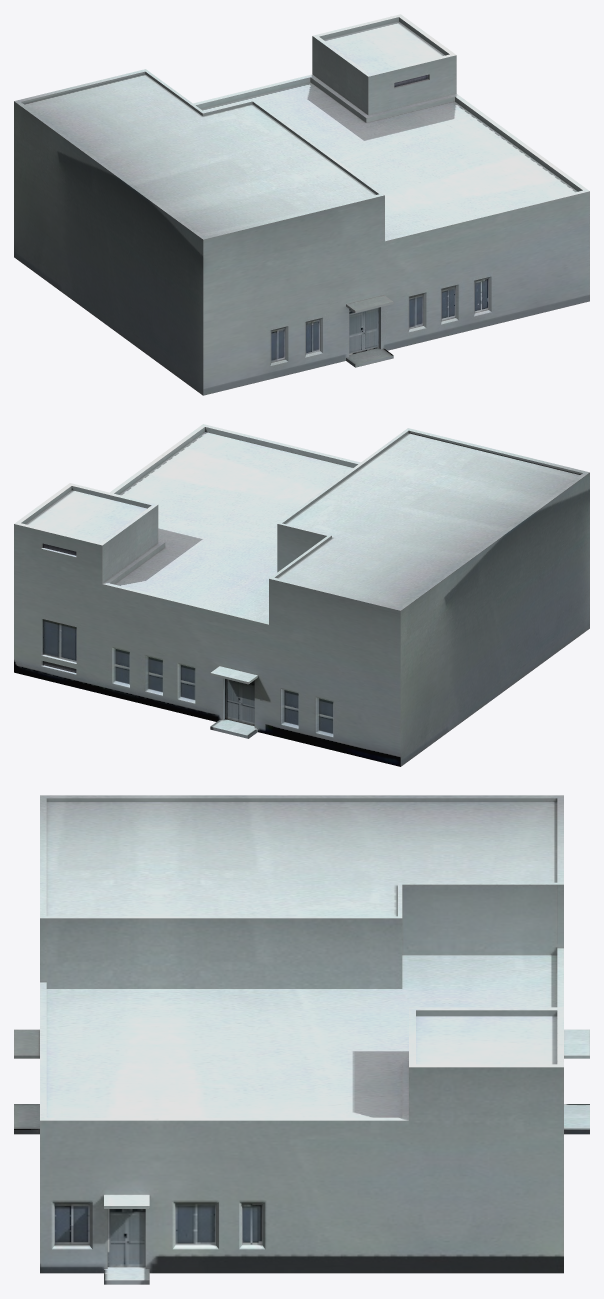
File: build10YNSCYQ.glb
3 views of the same model, one above another, from view 1: azimuth 30°, elevation 25°; view 2: azimuth 150°, elevation 25°; view 3: azimuth 270°, elevation 25° (orthographic). The views are drawn at different scales.
Visible parts, largest first — view 1: bulid10YNSCYQ; view 2: bulid10YNSCYQ; view 3: bulid10YNSCYQ.
Boxes of the visible parts, x1=… form: bulid10YNSCYQ: x1=14, y1=14, x2=589, y2=395; bulid10YNSCYQ: x1=14, y1=424, x2=589, y2=766; bulid10YNSCYQ: x1=14, y1=795, x2=589, y2=1284.
Size of the model in its own units: 1665 by 616 by 1486.
1 material, 1 textured.
